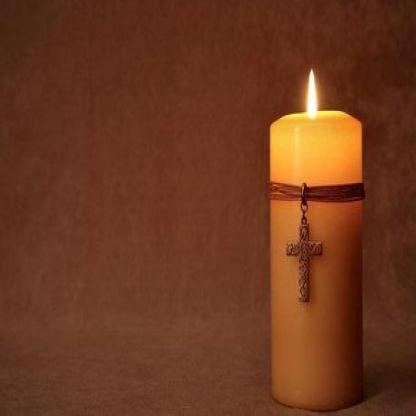fire: (300, 54, 326, 125)
